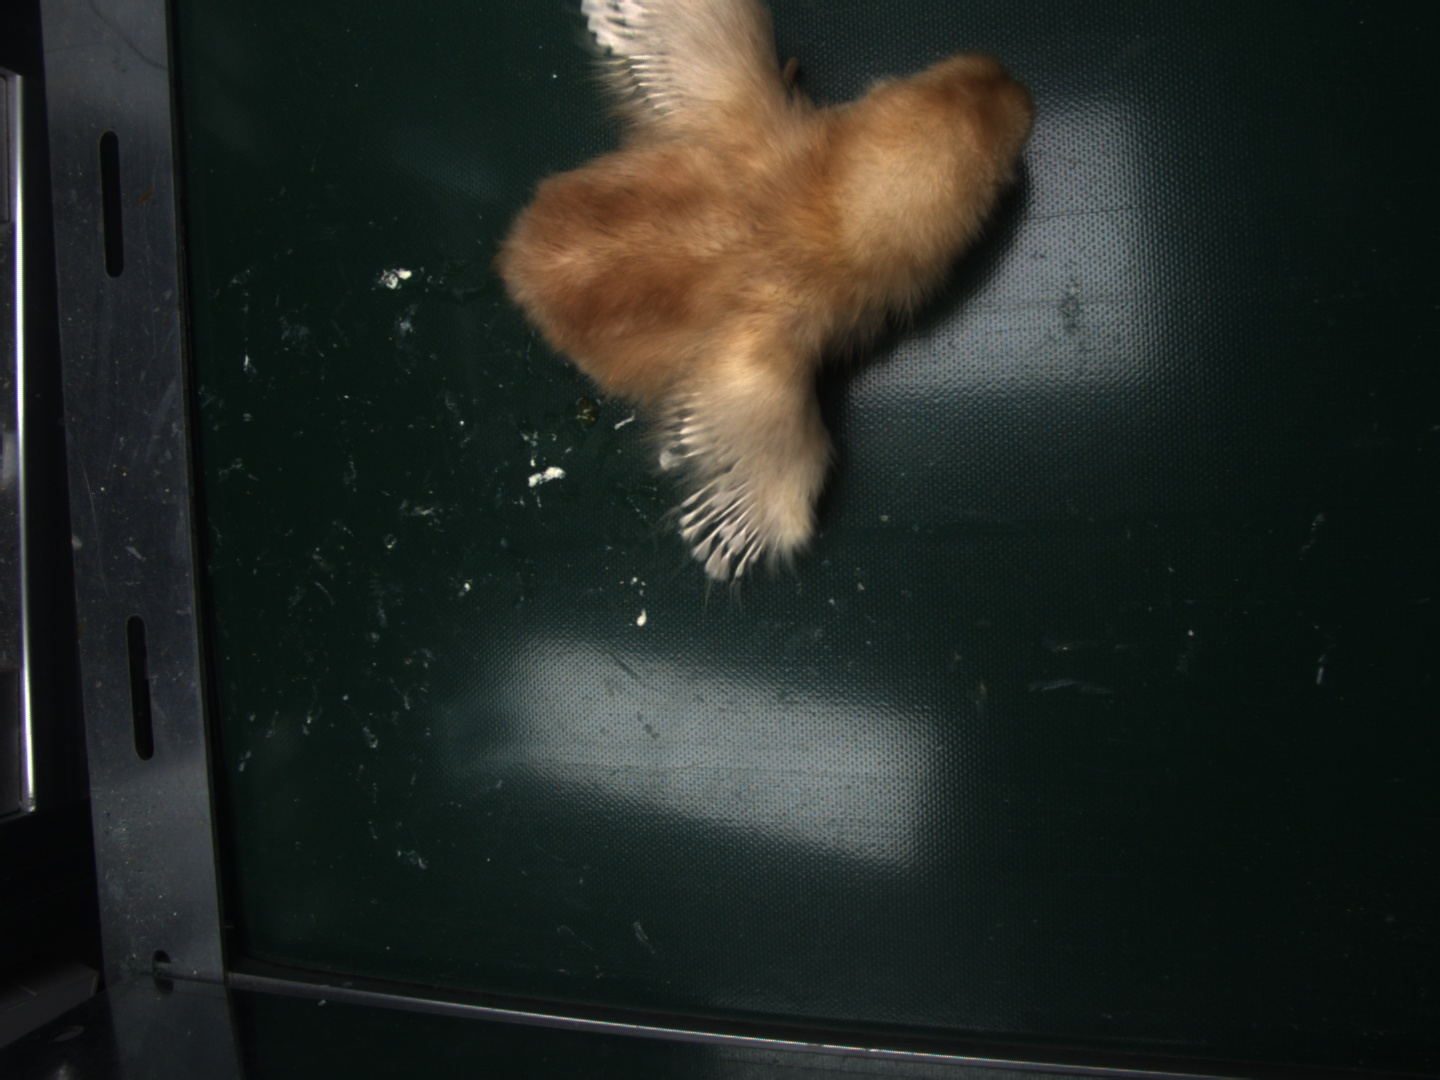female: (679, 476, 770, 587)
